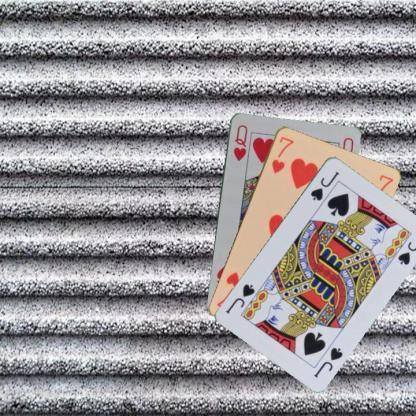7h: (268, 134, 296, 174)
Js: (307, 168, 341, 202), (311, 344, 344, 378)
Qh: (230, 122, 249, 162)
